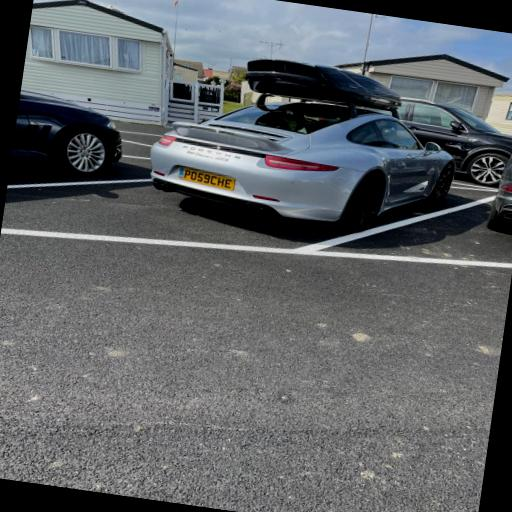numberplates: (179, 168, 235, 190)
